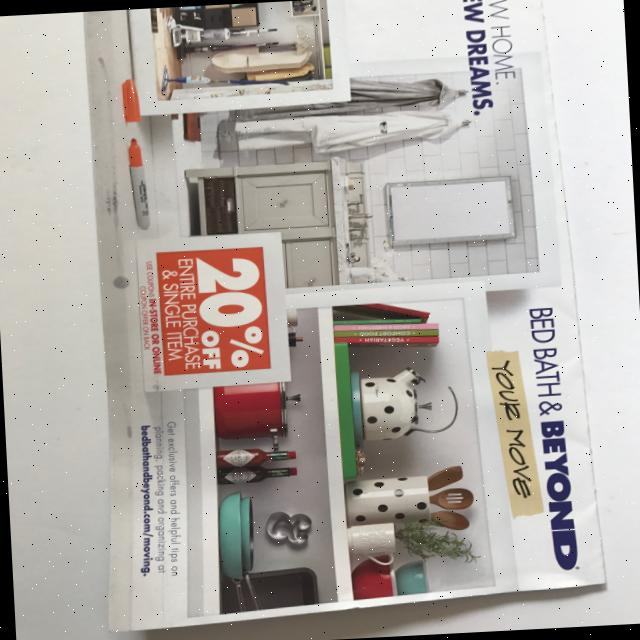paper: (74, 0, 605, 632)
